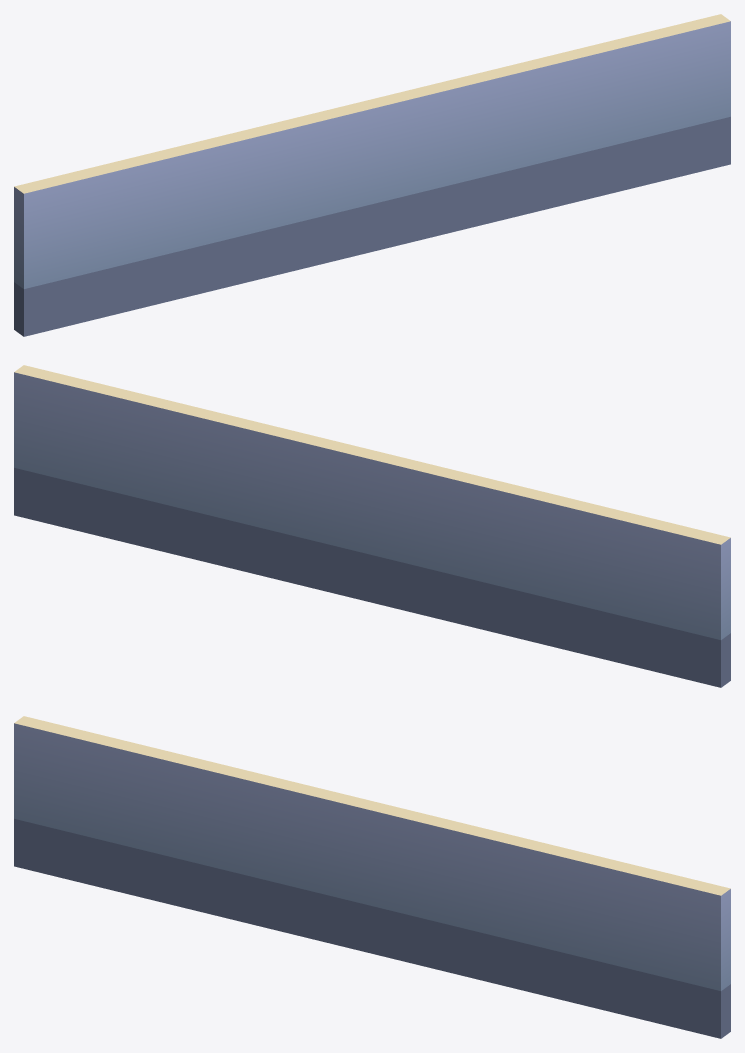
The model's file is Wall_Default_long.fbx.
3 renders of one model, top to bottom at view 1: azimuth 30°, elevation 25°; view 2: azimuth 150°, elevation 25°; view 3: azimuth 330°, elevation 25°, orthographic.
Visible parts, largest first — view 1: Wall_Default_long; view 2: Wall_Default_long; view 3: Wall_Default_long.
Part boxes in pixels (x1,y1,x2,y2): Wall_Default_long: [14, 14, 730, 336]; Wall_Default_long: [14, 365, 730, 687]; Wall_Default_long: [14, 716, 730, 1038].
Size of the model in its own units: 1034 by 200 by 25.
